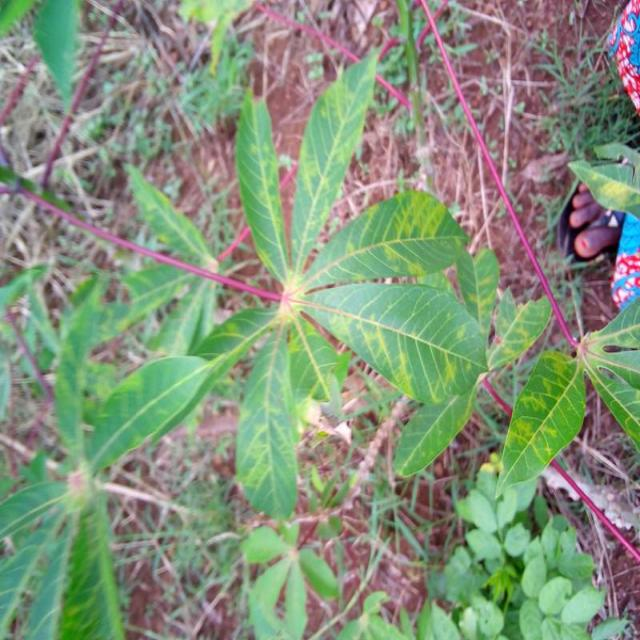cassava leaf: (302, 278, 490, 406), (290, 48, 380, 274), (494, 348, 588, 501), (235, 323, 300, 521), (234, 88, 290, 287)
